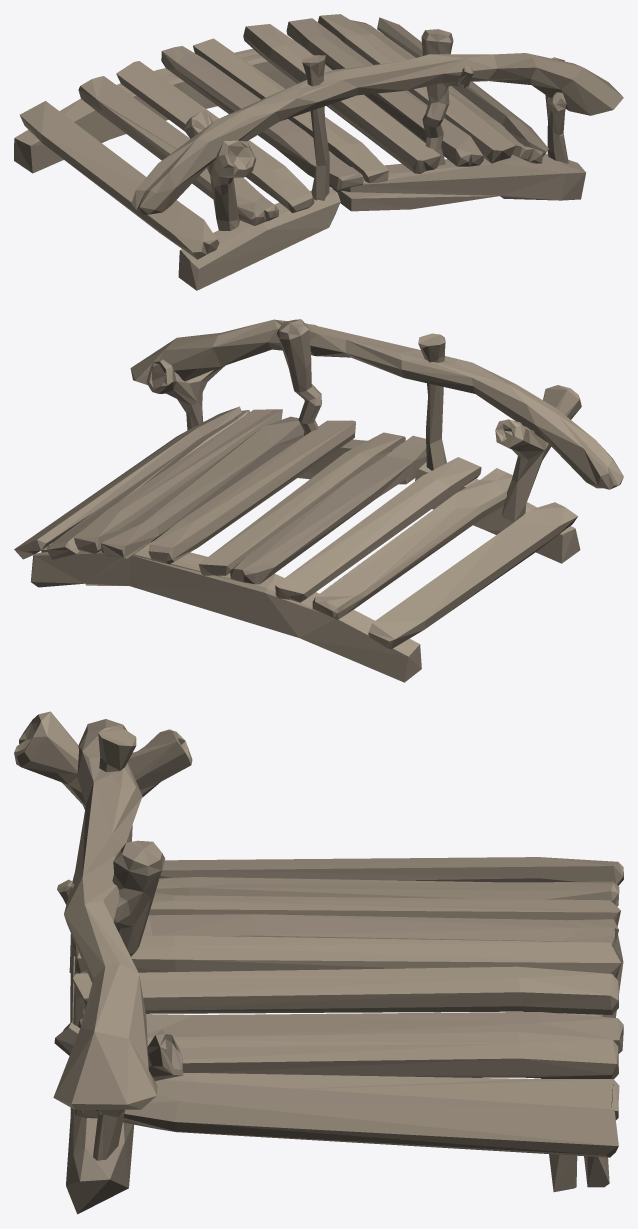
Rendered from bridge_02_1.glb.
3 renders of one model, top to bottom at view 1: azimuth 30°, elevation 25°; view 2: azimuth 150°, elevation 25°; view 3: azimuth 270°, elevation 25°, orthographic. The views are drawn at different scales.
Parts seen in each view (by area): view 1: estructura.puente.env_bridge_02_1; view 2: estructura.puente.env_bridge_02_1; view 3: estructura.puente.env_bridge_02_1.
Part boxes in pixels (x1,y1,x2,y2): estructura.puente.env_bridge_02_1: (14,14,623,290); estructura.puente.env_bridge_02_1: (14,319,623,682); estructura.puente.env_bridge_02_1: (14,711,623,1214).
Bounding box in the file's own units: 5.91 × 2.28 × 4.3.
